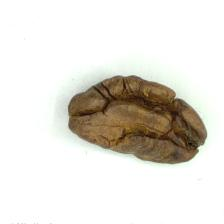NG: (70, 78, 205, 163)
